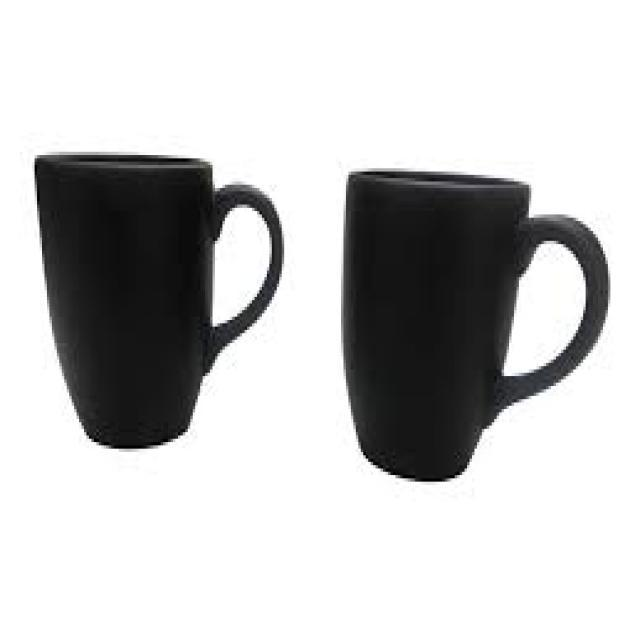taza: (341, 156, 611, 486), (32, 150, 286, 453)
